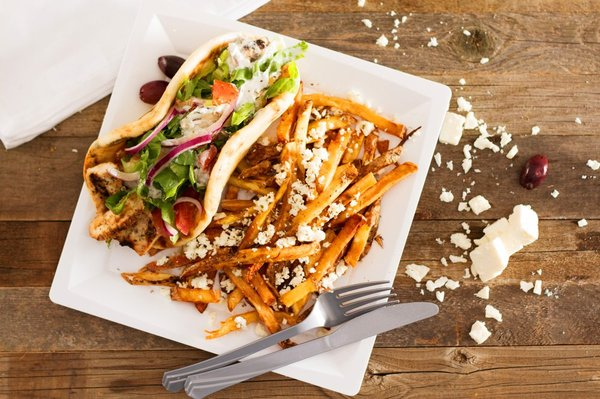burger: (162, 288, 438, 396)
soup: (83, 27, 419, 327), (82, 31, 305, 257)
